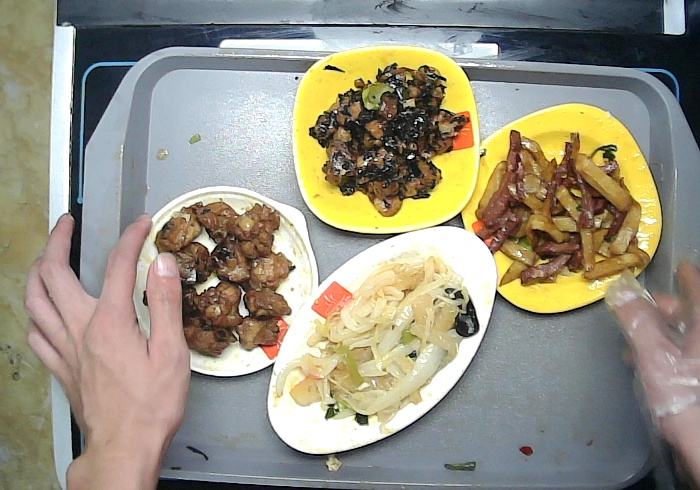SHKJ-Bao_Yu_Pan: (126, 184, 321, 379)
SHKJ-Huang_Se_Cai_Die: (290, 43, 483, 235)
SHKJ-Huang_Se_Si_Fang_Cai_Die: (457, 101, 665, 314)
SHKJ-Yu_Pan: (264, 223, 500, 457)
